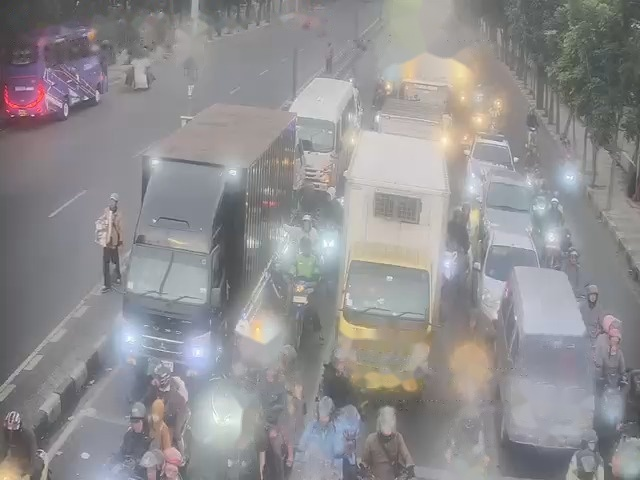Bis: (0, 23, 109, 125)
Mobil: (499, 264, 593, 436), (289, 68, 359, 190), (480, 226, 536, 334), (486, 170, 533, 234), (468, 133, 515, 180)
Motor: (208, 378, 245, 448), (286, 436, 344, 480), (363, 430, 411, 478), (286, 270, 316, 332), (447, 210, 471, 278), (596, 378, 622, 425), (111, 453, 141, 480), (544, 228, 561, 266)
Truk: (121, 104, 298, 375), (327, 135, 451, 385), (392, 52, 468, 113)
